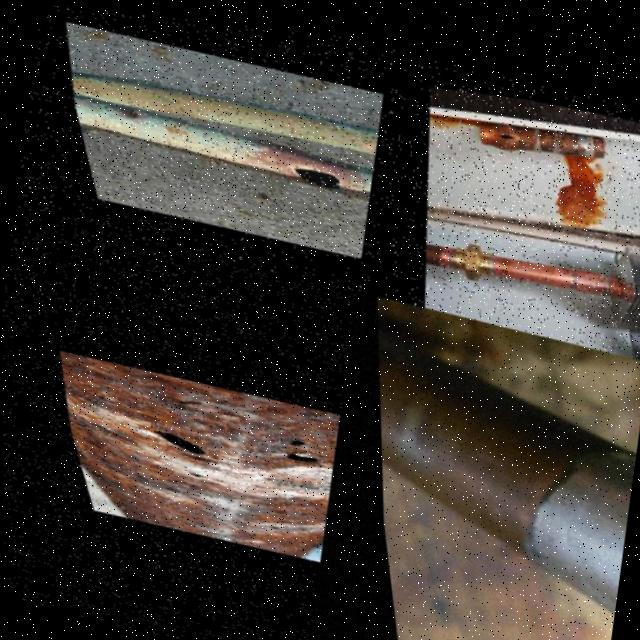hole: (125, 412, 205, 453), (274, 148, 345, 186), (259, 434, 317, 466), (266, 420, 310, 444), (238, 506, 268, 525), (168, 458, 196, 474)
rupture: (490, 110, 526, 134)
